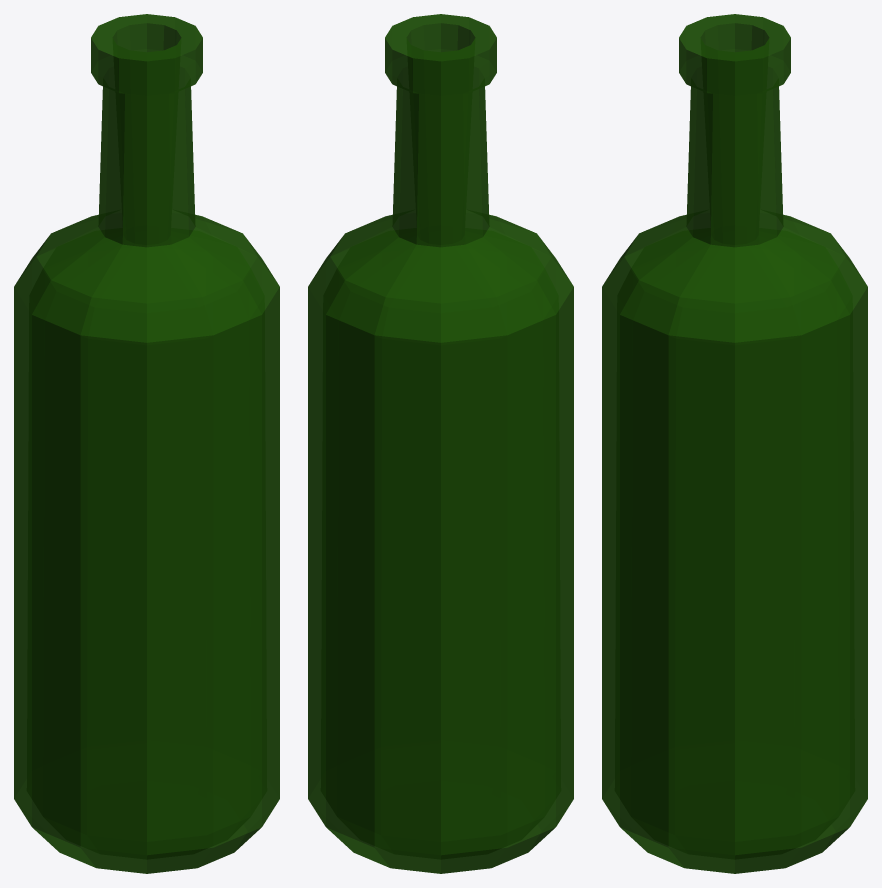
Rendered from Glass_Bottle.fbx.
3 renders of one model, left to right at view 1: azimuth 30°, elevation 25°; view 2: azimuth 150°, elevation 25°; view 3: azimuth 270°, elevation 25°, orthographic.
Visible parts, largest first — view 1: Glass_Bottle; view 2: Glass_Bottle; view 3: Glass_Bottle.
Boxes of the visible parts, x1,y1,x2,y2 form: Glass_Bottle: (14,14,279,873); Glass_Bottle: (308,14,573,873); Glass_Bottle: (602,14,867,873).
Bounding box in the file's own units: 32.7 × 108 × 32.7.
